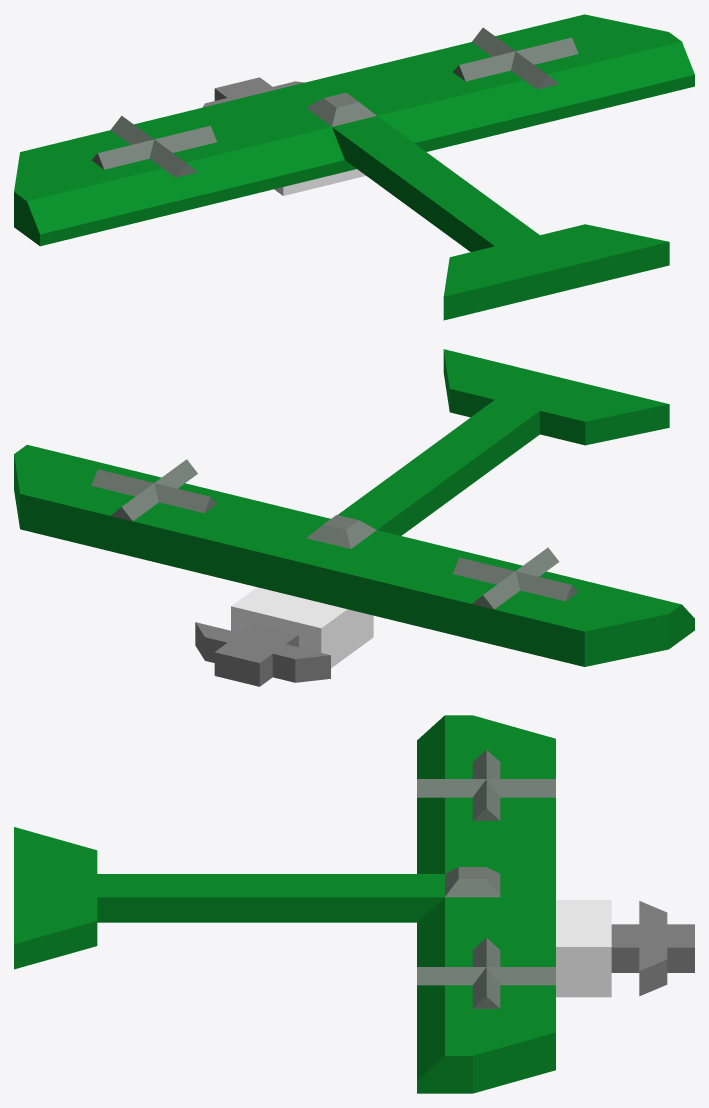
Rendered from L2AGreen.dae.
The picture shows the model from 3 angles, top to bottom: view 1: azimuth 30°, elevation 25°; view 2: azimuth 150°, elevation 25°; view 3: azimuth 270°, elevation 25°; orthographic projection. The views are drawn at different scales.
Visible parts, largest first — view 1: Cube.010; view 2: Cube.010; view 3: Cube.010.
Part boxes in pixels (box(x1,y1,x2,y2)): Cube.010: box(14, 14, 694, 320); Cube.010: box(14, 349, 694, 686); Cube.010: box(14, 715, 694, 1093).
Bounding box in the file's own units: 5.8 × 4.9 × 0.8.
